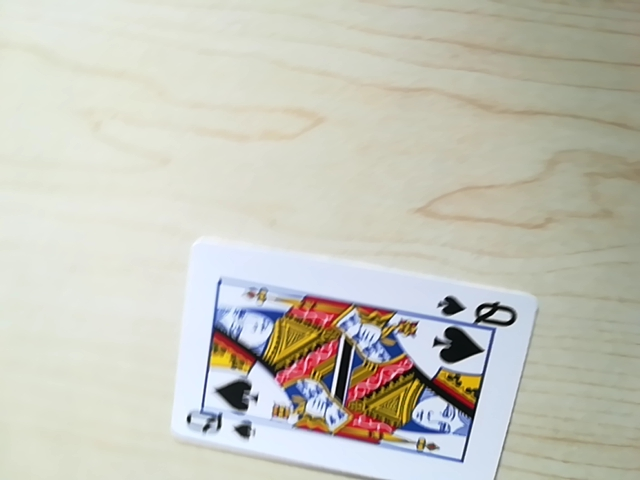ht q: (180, 405, 257, 444), (433, 293, 518, 328)
